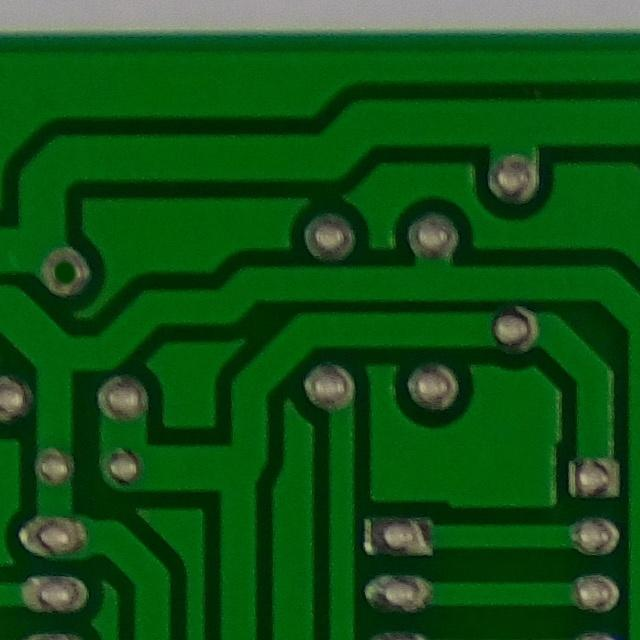missing_hole: (38, 243, 99, 309)
